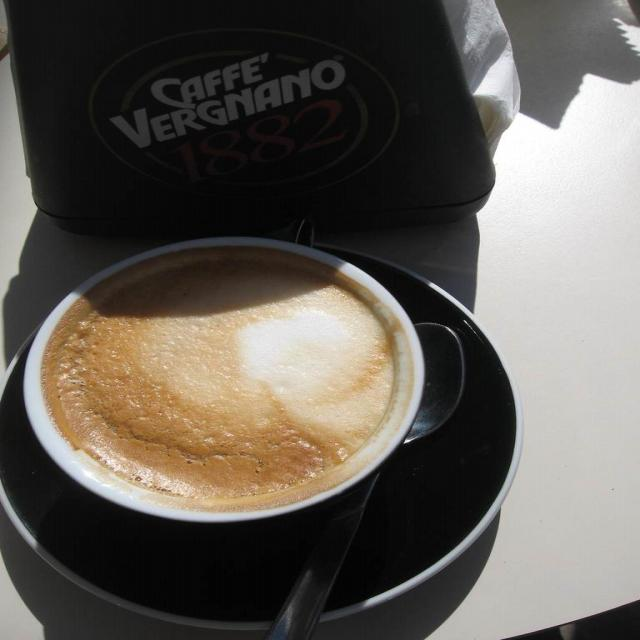Coffee: (40, 253, 398, 512)
